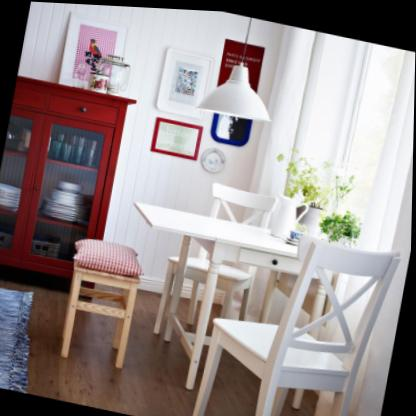Chair: (192, 210, 403, 416)
